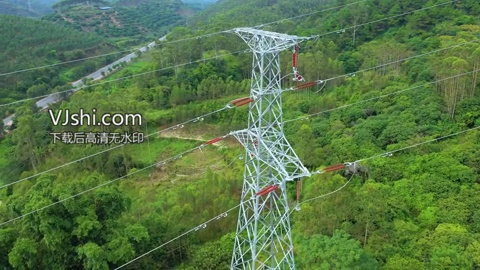tower_body: (222, 20, 317, 270)
tower_foot: (227, 208, 299, 269)
tower_head: (227, 23, 312, 56)
